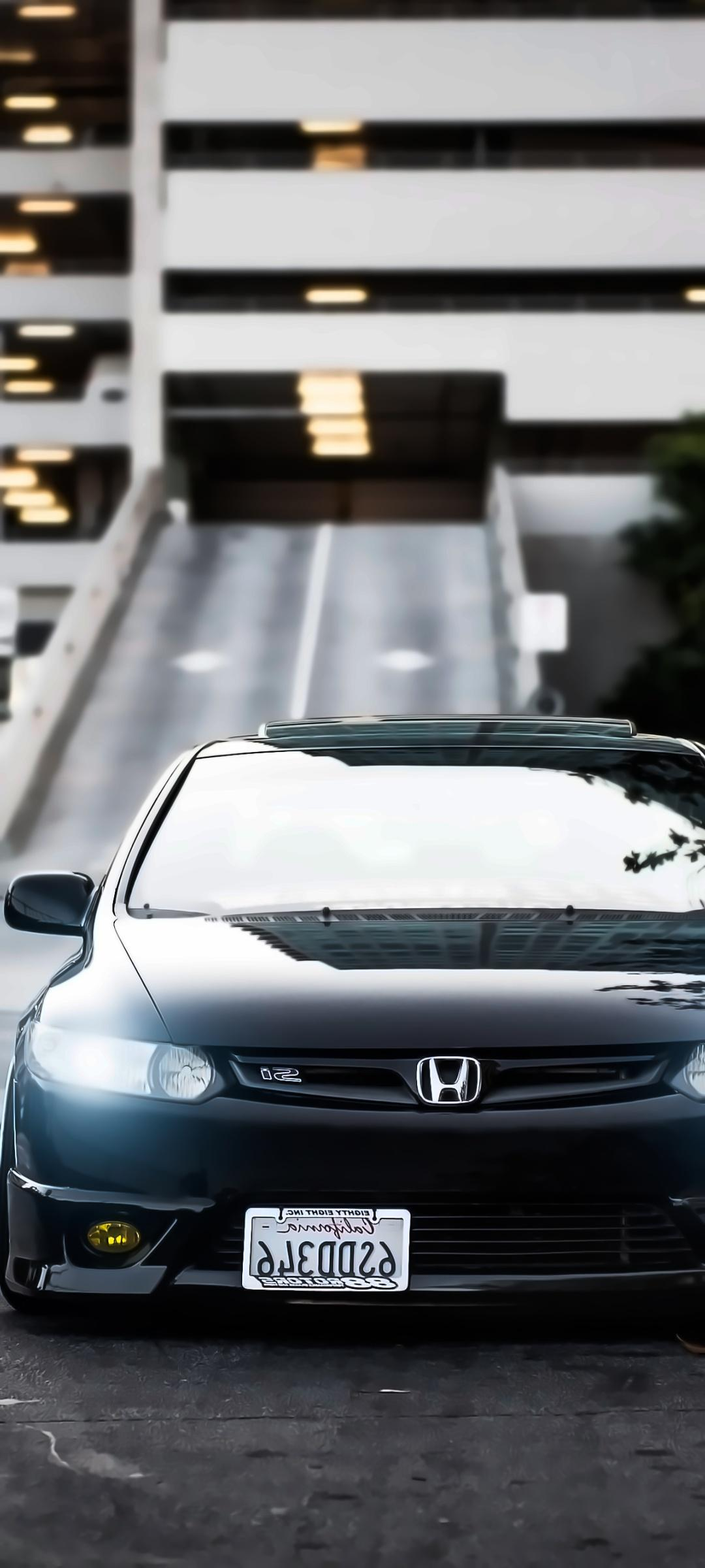Car hood: (109, 904, 705, 1053)
Front bumper: (0, 1087, 705, 1335)
Headlight - -L-: (662, 1028, 705, 1121)
Headlight - -R-: (15, 1009, 231, 1113)
Side mirror - -R-: (2, 861, 112, 945)
